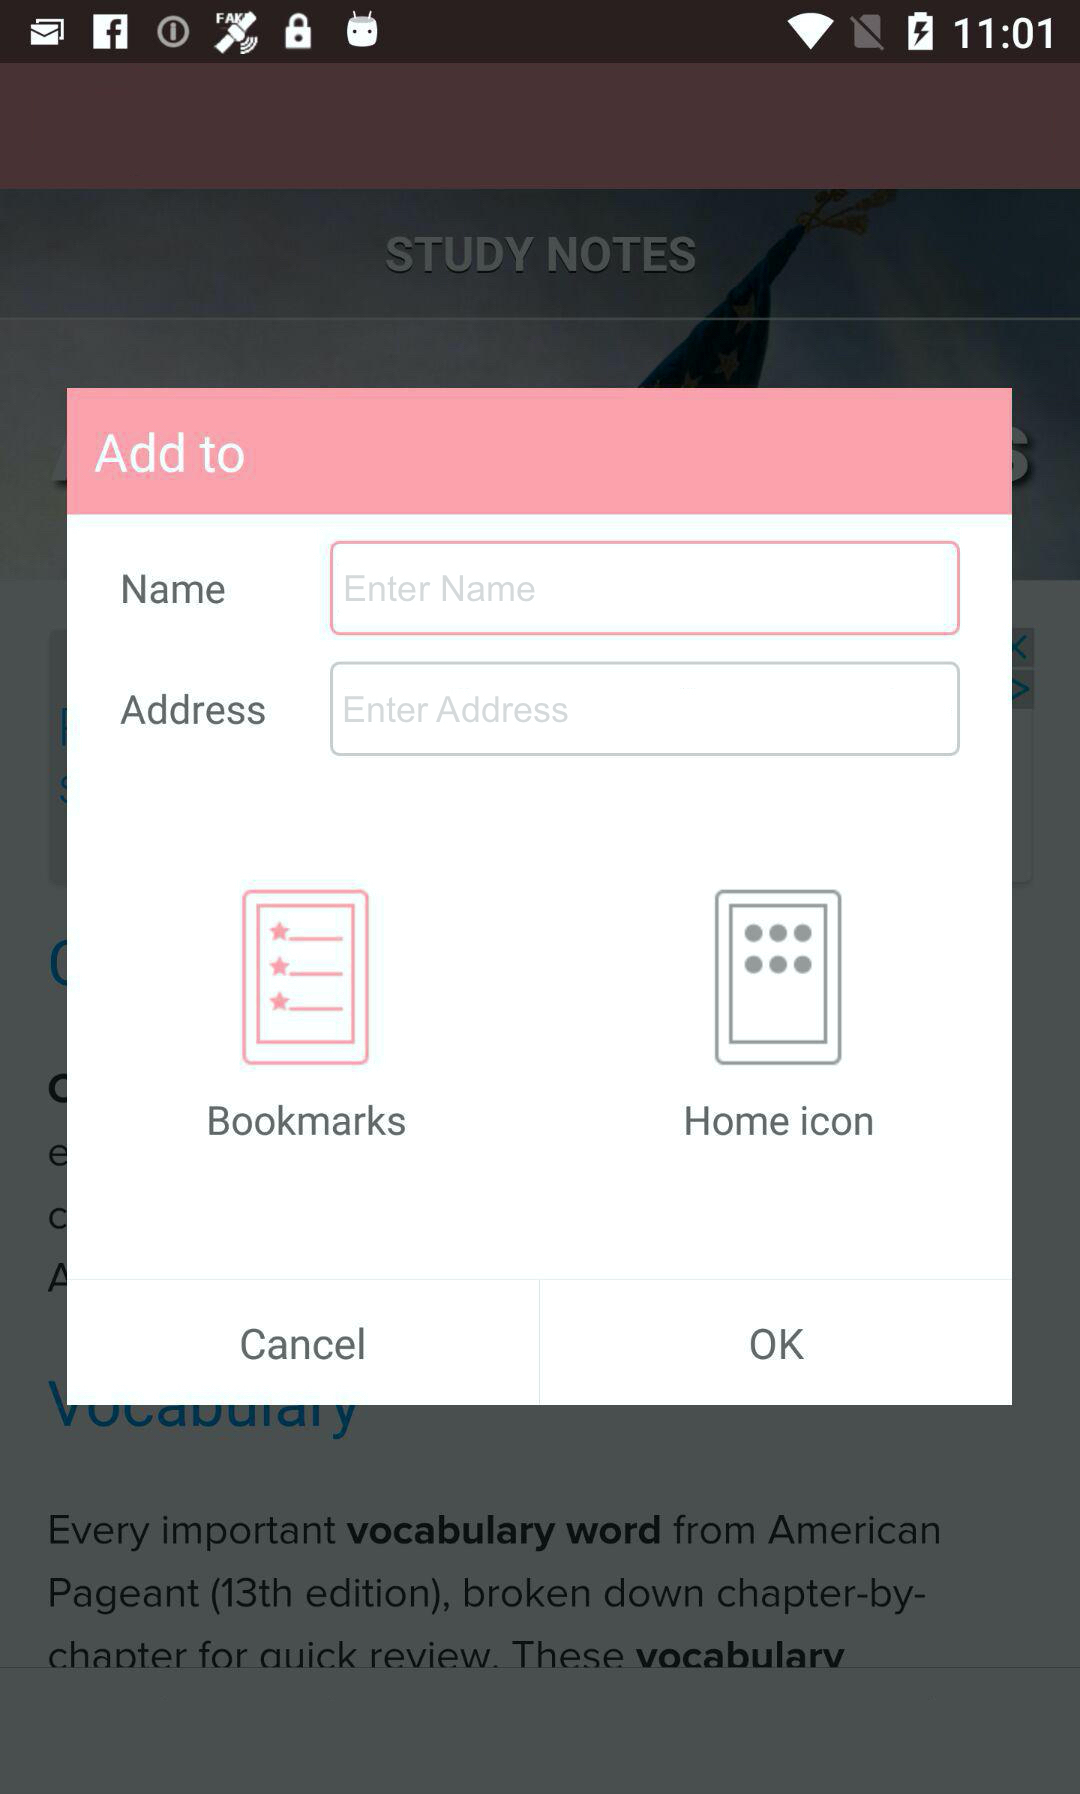EditText: (331, 661, 961, 757), (331, 541, 961, 636)
Image: (712, 885, 844, 1067), (243, 891, 370, 1065)
Modal: (68, 390, 1012, 1404)
Text: (47, 1513, 940, 1667), (384, 235, 698, 276), (345, 696, 569, 724), (209, 1105, 406, 1137), (96, 432, 243, 473), (685, 1106, 874, 1137), (345, 574, 536, 604), (120, 695, 266, 727), (124, 574, 225, 606)
TextButton: (68, 1280, 541, 1404), (541, 1280, 1012, 1404)
UpperTaskBar: (1, 1, 1080, 64)
